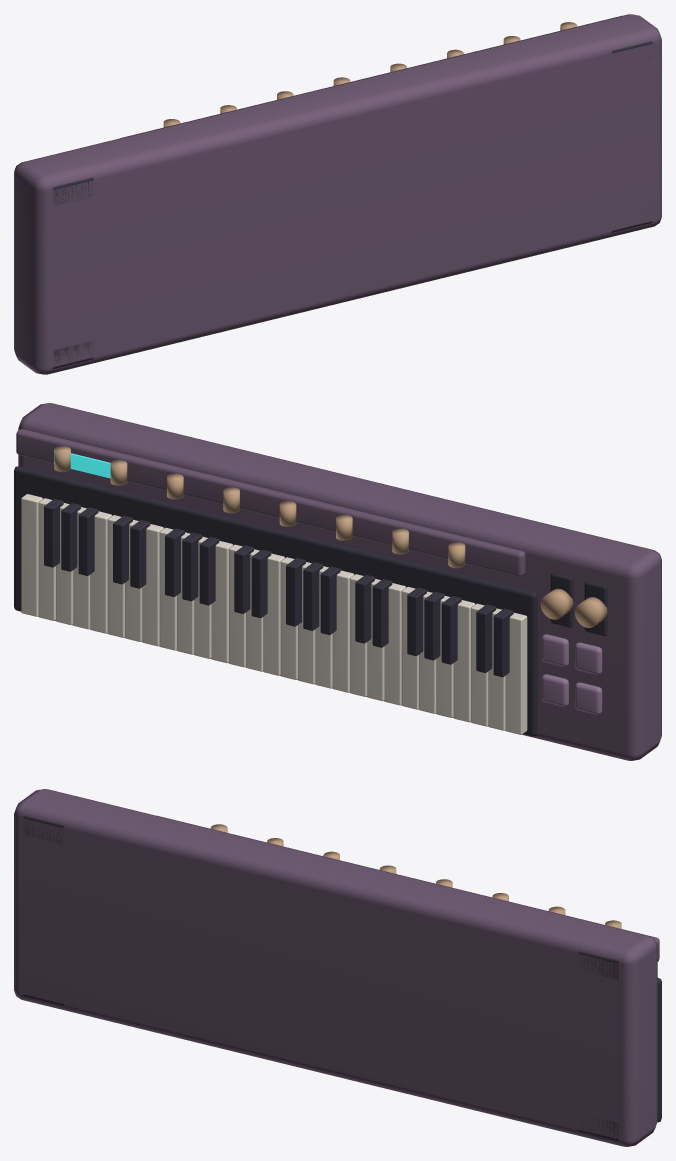
File: C05-midi-keyboard-review.glb
3 views of the same model, one above another, from view 1: azimuth 30°, elevation 25°; view 2: azimuth 150°, elevation 25°; view 3: azimuth 330°, elevation 25° (orthographic).
Parts seen in each view (by area): view 1: C05_Batched_C05_DustyPlumPolymer, C05_Batched_C05_SatinBlackKeys, C05_Batched_C05_ChampagneControls; view 2: C05_Batched_C05_DustyPlumPolymer, C05_Batched_C05_WarmIvoryKeys, C05_Batched_C05_SatinBlackKeys, C05_Batched_C05_ChampagneControls, C05_Batched_C05_MauveRubberPads, C05_OLEDInset; view 3: C05_Batched_C05_DustyPlumPolymer, C05_Batched_C05_SatinBlackKeys, C05_Batched_C05_ChampagneControls.
Part boxes in pixels (x1,y1,x2,y2): C05_Batched_C05_DustyPlumPolymer: (14, 14, 661, 374); C05_Batched_C05_SatinBlackKeys: (52, 41, 652, 368); C05_Batched_C05_ChampagneControls: (163, 22, 577, 127); C05_Batched_C05_DustyPlumPolymer: (16, 403, 661, 760); C05_Batched_C05_WarmIvoryKeys: (21, 494, 527, 734); C05_Batched_C05_SatinBlackKeys: (14, 466, 607, 736); C05_Batched_C05_ChampagneControls: (54, 446, 607, 627); C05_Batched_C05_MauveRubberPads: (541, 634, 602, 714); C05_OLEDInset: (54, 450, 110, 478); C05_Batched_C05_DustyPlumPolymer: (14, 789, 659, 1146); C05_Batched_C05_SatinBlackKeys: (23, 815, 661, 1141); C05_Batched_C05_ChampagneControls: (210, 824, 621, 928).
Bounding box in the file's own units: 1.55 × 0.47 × 0.1955.
